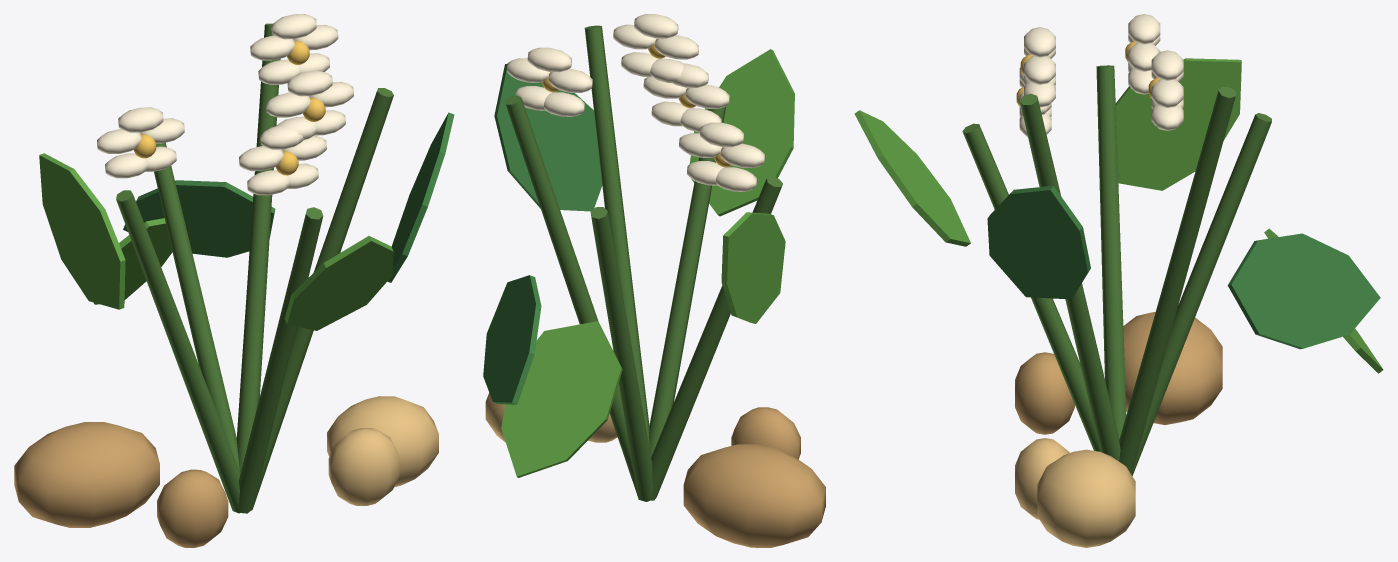
Rendered from potato-harvest.glb.
3 renders of one model, left to right at view 1: azimuth 30°, elevation 25°; view 2: azimuth 150°, elevation 25°; view 3: azimuth 270°, elevation 25°, orthographic. The views are drawn at different scales.
Visible parts, largest first — view 1: potato_harvest_stem, potato_harvest_potato, potato_harvest_leaf, potato_harvest_flower, potato_harvest_potatoLight, potato_harvest_leafDark, potato_harvest_flowerCore; view 2: potato_harvest_stem, potato_harvest_leaf, potato_harvest_flower, potato_harvest_potato, potato_harvest_leafDark, potato_harvest_potatoLight, potato_harvest_flowerCore; view 3: potato_harvest_stem, potato_harvest_leafDark, potato_harvest_leaf, potato_harvest_potatoLight, potato_harvest_potato, potato_harvest_flower.
Part boxes in pixels (left/top/right/bottom): potato_harvest_stem: left=116, top=23, right=393, bottom=513; potato_harvest_potato: left=14, top=422, right=228, bottom=547; potato_harvest_leaf: left=39, top=153, right=393, bottom=330; potato_harvest_flower: left=97, top=14, right=353, bottom=195; potato_harvest_potatoLight: left=327, top=396, right=438, bottom=505; potato_harvest_leafDark: left=123, top=112, right=454, bottom=282; potato_harvest_flowerCore: left=133, top=40, right=325, bottom=175; potato_harvest_stem: left=504, top=25, right=782, bottom=501; potato_harvest_leaf: left=501, top=49, right=794, bottom=477; potato_harvest_flower: left=507, top=14, right=764, bottom=191; potato_harvest_potato: left=683, top=407, right=825, bottom=547; potato_harvest_leafDark: left=483, top=64, right=602, bottom=404; potato_harvest_potatoLight: left=485, top=393, right=617, bottom=442; potato_harvest_flowerCore: left=541, top=38, right=731, bottom=167; potato_harvest_stem: left=962, top=65, right=1271, bottom=475; potato_harvest_leafDark: left=987, top=185, right=1380, bottom=349; potato_harvest_leaf: left=854, top=58, right=1383, bottom=373; potato_harvest_potatoLight: left=1015, top=438, right=1135, bottom=547; potato_harvest_potato: left=1015, top=312, right=1222, bottom=434; potato_harvest_flower: left=1019, top=14, right=1183, bottom=137.
Size of the model in its own units: 0.4869 by 0.5604 by 0.5737.
